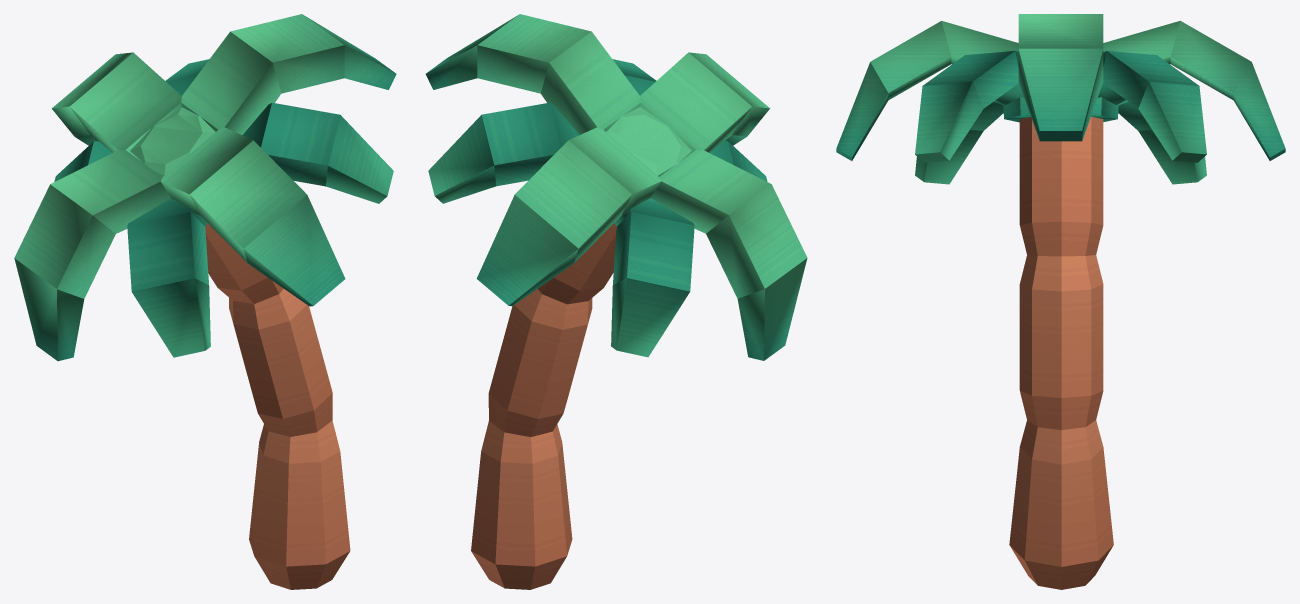
The model's file is palm-detailed-bend.glb.
3 views of the same model, side by side, from view 1: azimuth 30°, elevation 25°; view 2: azimuth 150°, elevation 25°; view 3: azimuth 270°, elevation 25° (orthographic).
Parts seen in each view (by area): view 1: palm-detailed-bend; view 2: palm-detailed-bend; view 3: palm-detailed-bend.
Part boxes in pixels (x1=…): palm-detailed-bend: x1=14, y1=14, x2=396, y2=589; palm-detailed-bend: x1=425, y1=14, x2=807, y2=589; palm-detailed-bend: x1=836, y1=14, x2=1285, y2=589.
Size of the model in its own units: 0.9441 by 1.39 by 1.05.
Materials: 1 (1 with a texture image).
